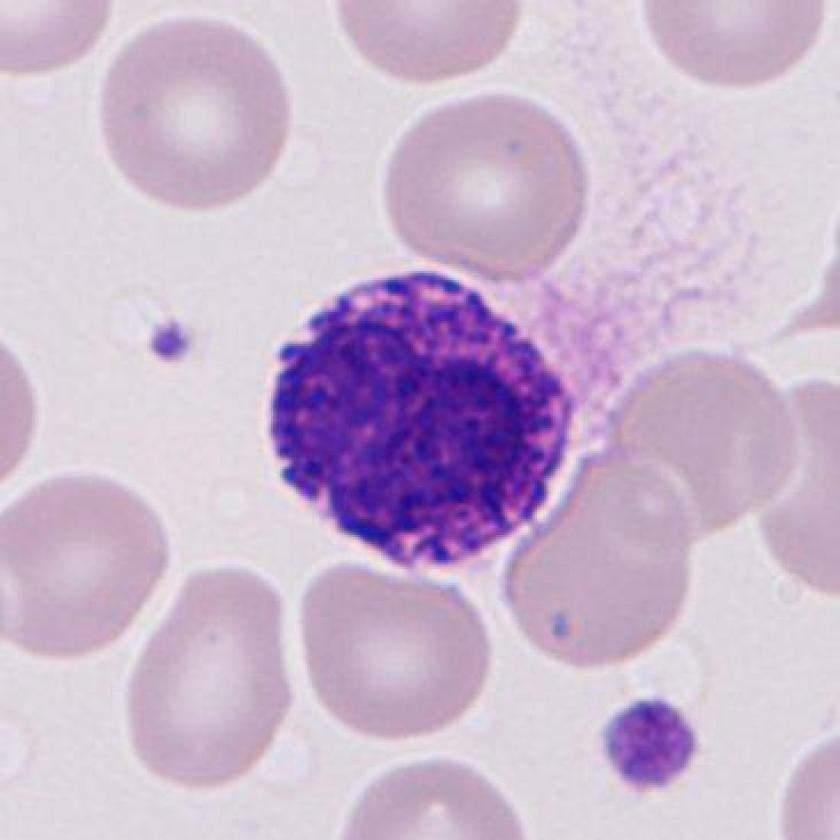basophil: (265, 263, 577, 563)
